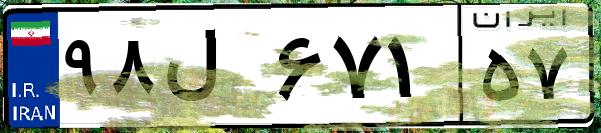1: (385, 28, 445, 110)
5: (475, 38, 525, 113)
6: (270, 28, 330, 110)
7: (330, 28, 385, 110), (525, 38, 570, 115)
8: (110, 28, 158, 98)
9: (57, 26, 110, 100)
ل: (158, 20, 270, 120)
